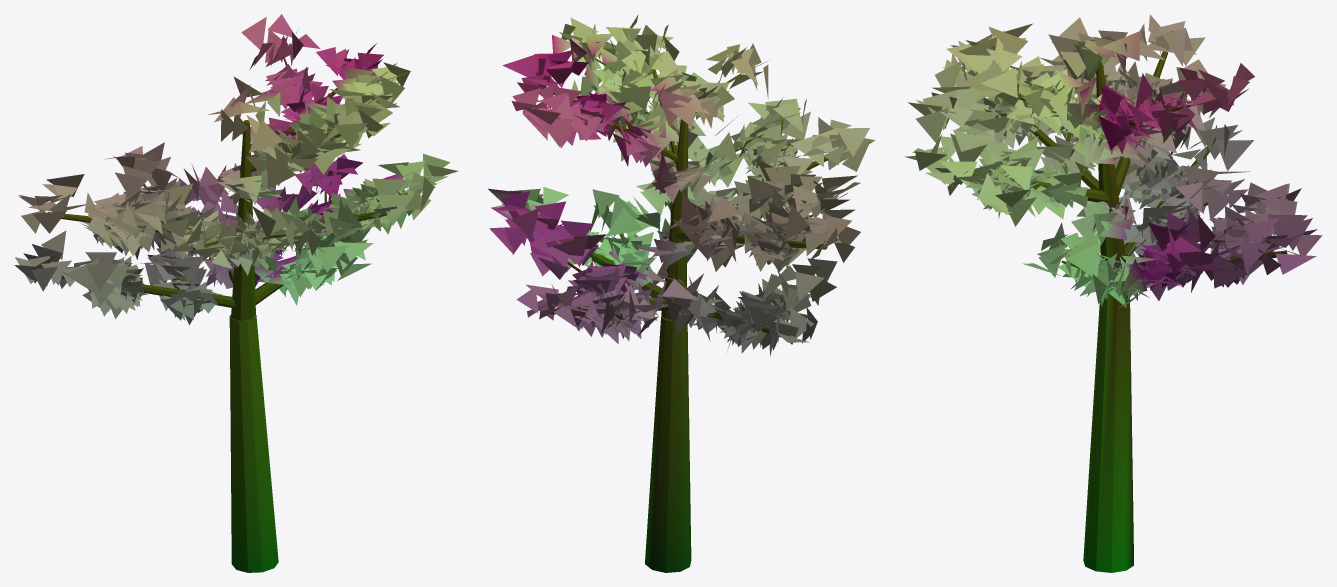
The model's file is ecological_savanna_established_02.glb.
The picture shows the model from 3 angles, left to right: view 1: azimuth 30°, elevation 25°; view 2: azimuth 150°, elevation 25°; view 3: azimuth 270°, elevation 25°; orthographic projection. The views are drawn at different scales.
Visible parts, largest first — view 1: ecological_savanna_established_02; view 2: ecological_savanna_established_02; view 3: ecological_savanna_established_02.
Part boxes in pixels (x1,y1,x2,y2): ecological_savanna_established_02: (14,14,458,572); ecological_savanna_established_02: (488,15,875,572); ecological_savanna_established_02: (904,14,1322,572).
Bounding box in the file's own units: 14.37 × 17.91 × 12.6.
